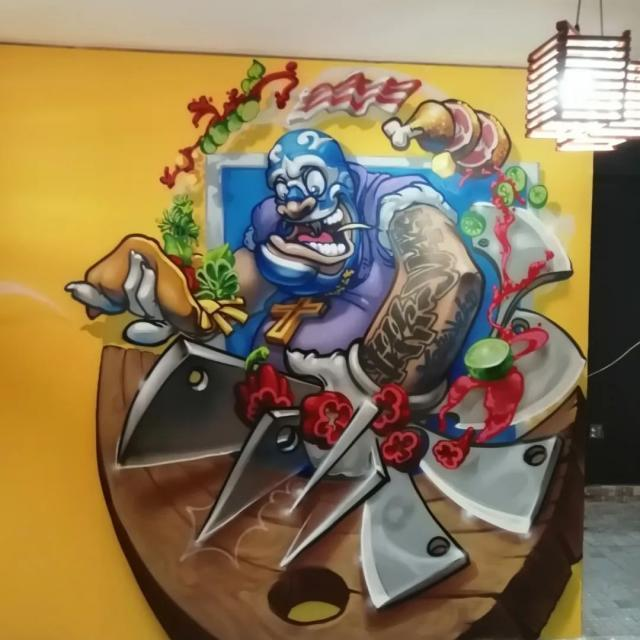-: (90, 90, 582, 639)
